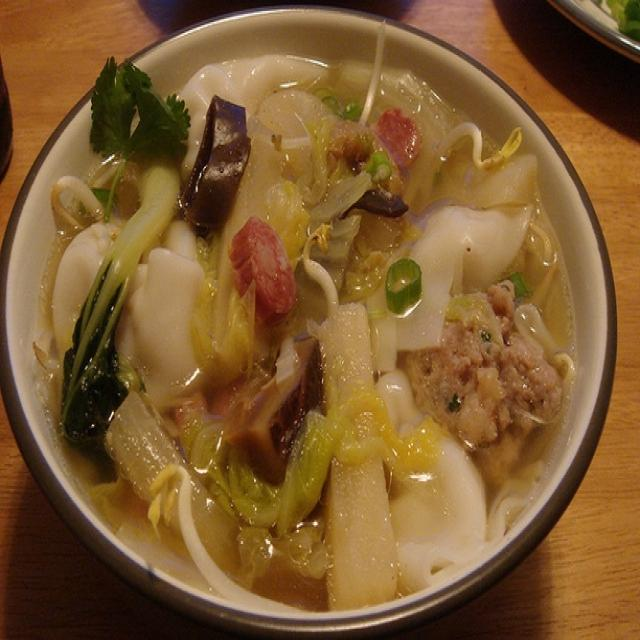汤锅炖物: (47, 36, 595, 602)
